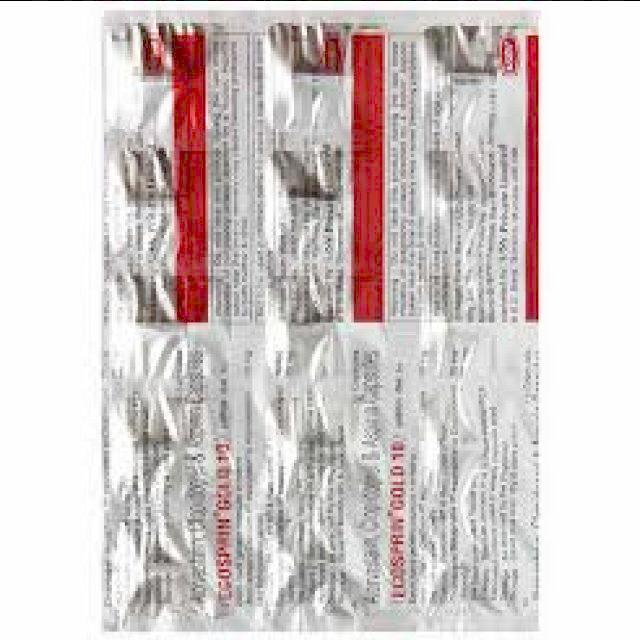authentic: (89, 0, 549, 640)
